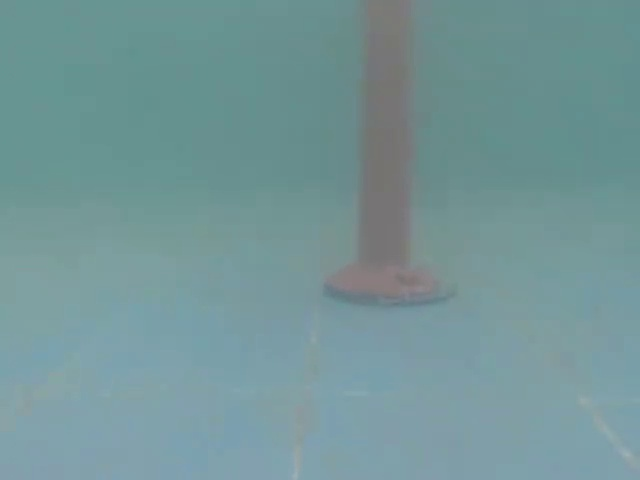flare: (313, 0, 450, 326)
